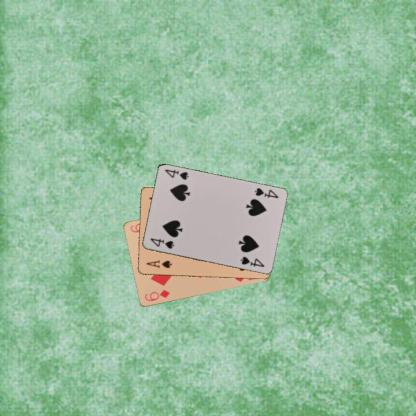4s: (147, 236, 175, 250), (252, 186, 280, 200)
6d: (142, 287, 171, 302)
As: (144, 258, 173, 270)
